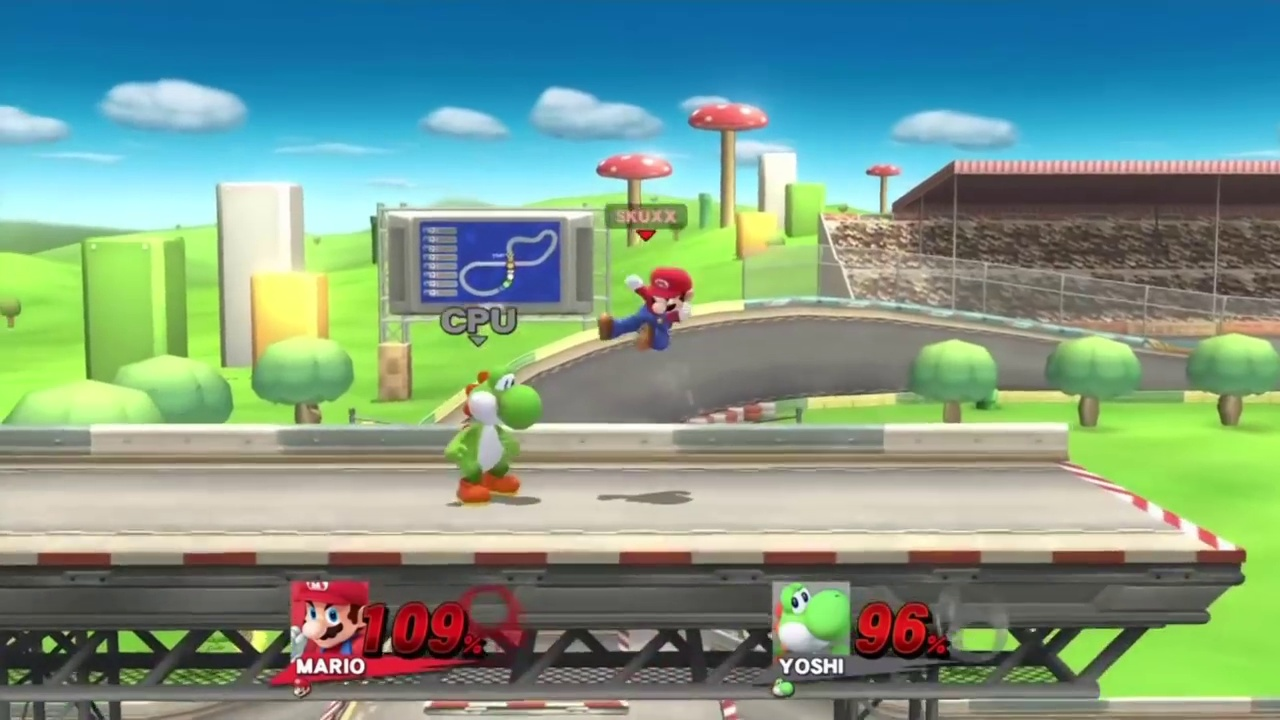Mario: (597, 265, 692, 350)
